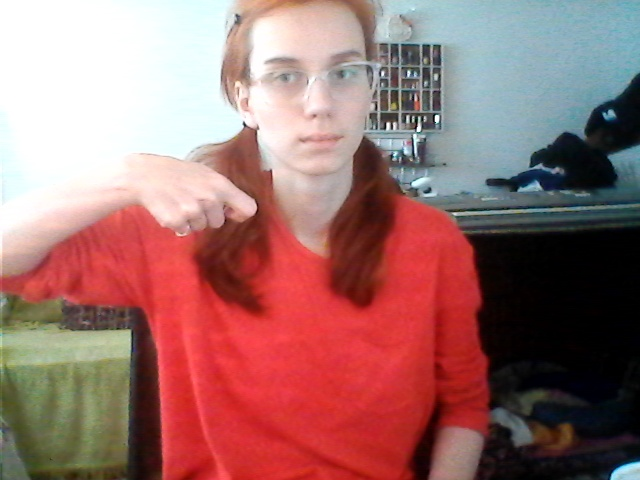jest: (146, 131, 323, 248)
